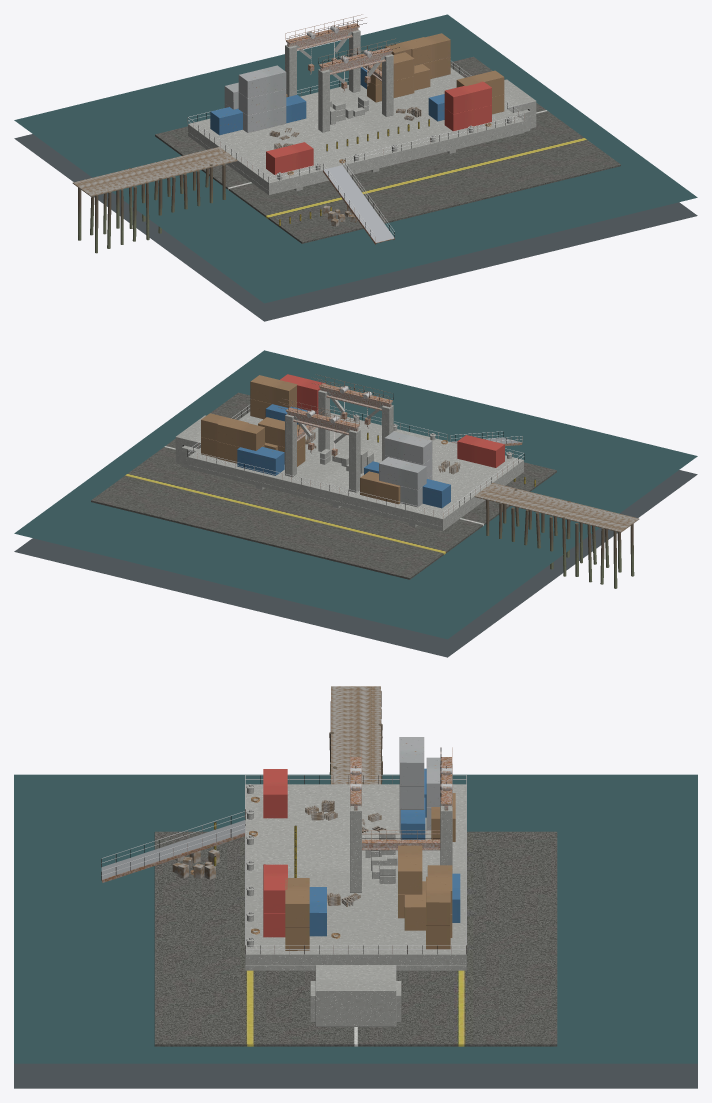
The model's file is dockyard.glb.
The picture shows the model from 3 angles, top to bottom: view 1: azimuth 30°, elevation 25°; view 2: azimuth 150°, elevation 25°; view 3: azimuth 270°, elevation 25°; orthographic projection. The views are drawn at different scales.
Parts seen in each view (by area): view 1: Sea, Ground_Slab, Dock_UpperDeck, Seabed, GN Instance (×9), GN_Pilings, Pier_Deck, Ramp_Grating, Crane_Leg_A, Container_Solo_FL, Crane_Leg_B, Beam_Short_F (+3 smaller); view 2: Sea, Ground_Slab, Seabed, Dock_UpperDeck, GN Instance (×10), GN_Pilings, Pier_Deck, Crane_Leg_B, Beam_Short_B, Container_Solo_FL, Crane_Leg_A, Tunnel_Box (+3 smaller); view 3: Sea, Ground_Slab, Dock_UpperDeck, Seabed, GN Instance (×11), Tunnel_Box, Pier_Deck, Ramp_Grating, Container_Solo_FL, Crane_Leg_A, Beam_Long_R, Crane_Leg_B.
Boxes of the visible parts, <box> form: Sea: <box>14,14,697,303</box>; Ground_Slab: <box>155,56,620,243</box>; Dock_UpperDeck: <box>188,68,523,190</box>; Seabed: <box>14,134,697,321</box>; GN Instance (×9): <box>210,33,491,135</box>; GN_Pilings: <box>78,164,225,253</box>; Pier_Deck: <box>72,147,234,196</box>; Ramp_Grating: <box>323,165,394,242</box>; Crane_Leg_A: <box>318,54,393,132</box>; Container_Solo_FL: <box>266,142,313,174</box>; Crane_Leg_B: <box>285,29,360,96</box>; Beam_Short_F: <box>267,129,523,194</box>; Sea: <box>14,350,697,639</box>; Ground_Slab: <box>91,392,556,579</box>; Seabed: <box>14,470,697,657</box>; Dock_UpperDeck: <box>188,411,523,526</box>; GN Instance (×10): <box>217,374,432,503</box>; GN_Pilings: <box>486,489,634,588</box>; Pier_Deck: <box>476,483,639,532</box>; Crane_Leg_B: <box>285,414,360,492</box>; Beam_Short_B: <box>188,465,444,530</box>; Container_Solo_FL: <box>457,435,504,467</box>; Crane_Leg_A: <box>318,390,393,460</box>; Tunnel_Box: <box>175,415,205,464</box>; Sea: <box>14,774,697,1063</box>; Ground_Slab: <box>154,831,557,1046</box>; Dock_UpperDeck: <box>245,784,466,964</box>; Seabed: <box>14,1063,697,1088</box>; GN Instance (×11): <box>263,737,452,936</box>; Tunnel_Box: <box>315,965,396,1026</box>; Pier_Deck: <box>331,686,380,781</box>; Ramp_Grating: <box>101,820,245,879</box>; Container_Solo_FL: <box>263,769,287,818</box>; Crane_Leg_A: <box>350,764,361,892</box>; Beam_Long_R: <box>245,965,466,970</box>; Crane_Leg_B: <box>440,764,452,873</box>.
Bounding box in the file's own units: 77 × 19.66 × 68.
14 materials, 10 textured.
